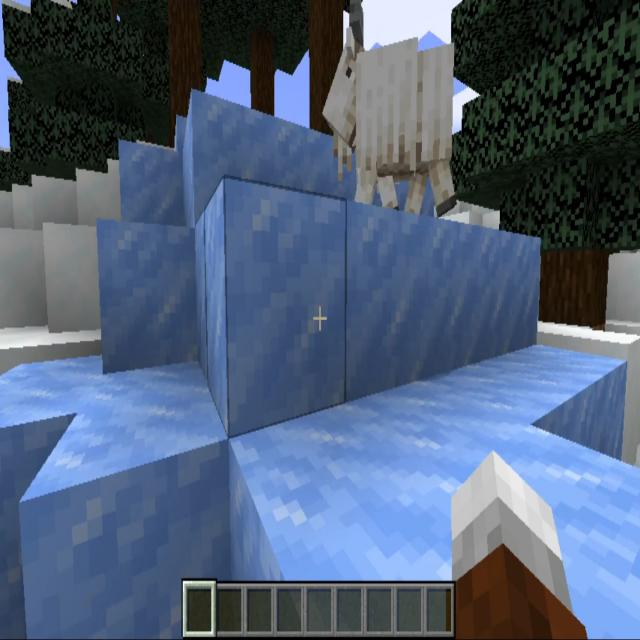Goat: (312, 0, 466, 225)
